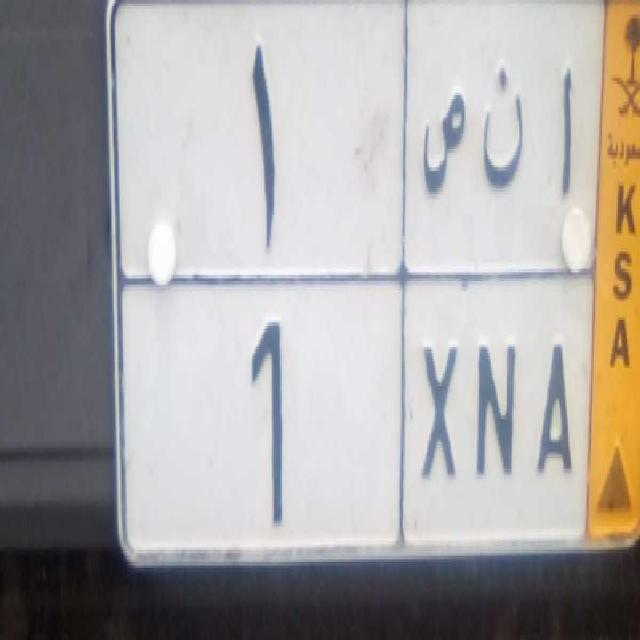license_plate: (120, 273, 594, 556)
